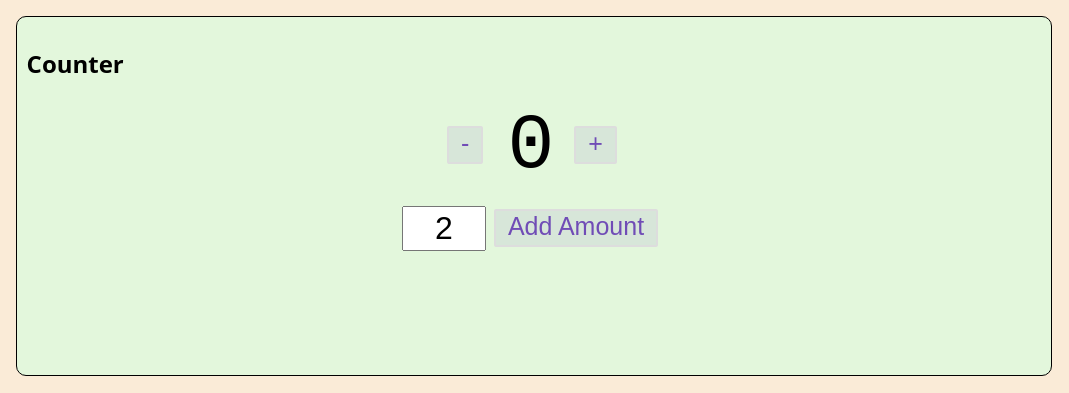
Test case: react redux testing › validate react app with redux
This screenshot has width=1069, height=393.
# INCREMENT VALUE BY 1
Click the button with test id "#plus" at (596, 145), box [574,126,617,164]
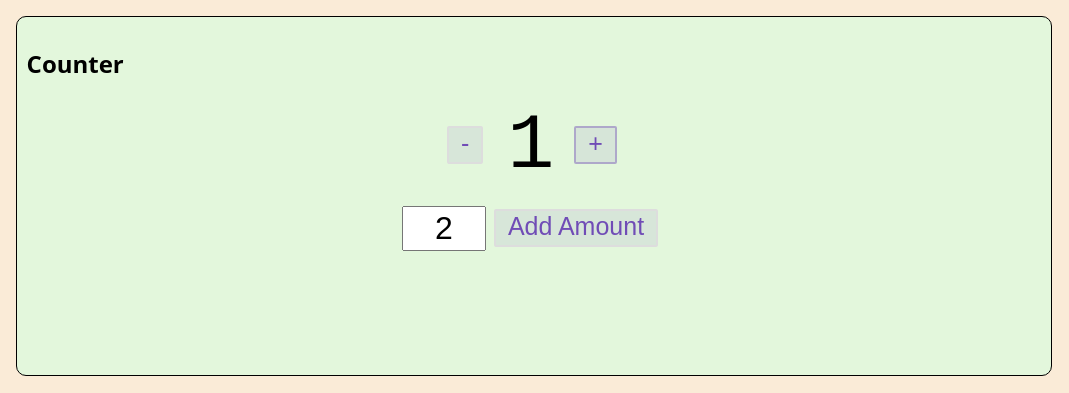
Expected: the text "1" is shown, [507,102,554,190]
# DECREMENT VALUE BY 1
Click the button with test id "#minus" at (465, 145), box [447,126,483,164]
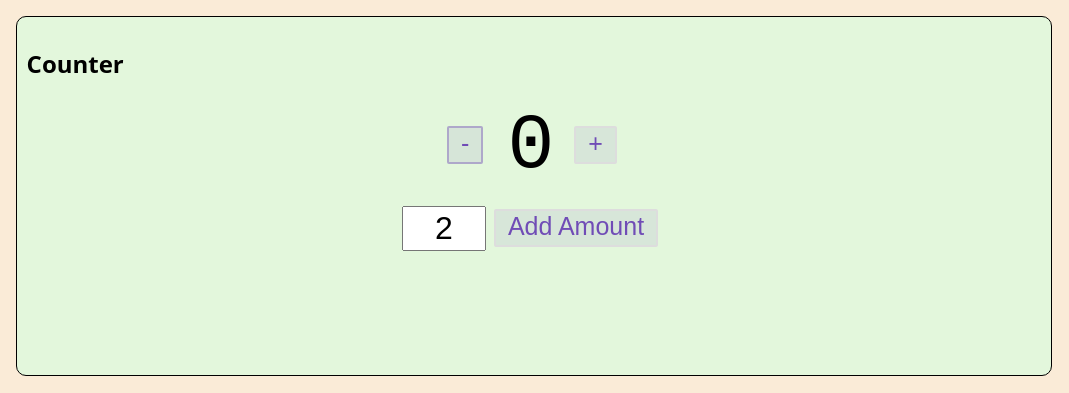
Expected: the text "0" is shown, [507,102,554,190]
# RESET AND TYPE VALUE 10 TO INPUT FIELD
Replace the text in the field with test id "incr-value" with "10" at (444, 229), box [402,206,486,251]
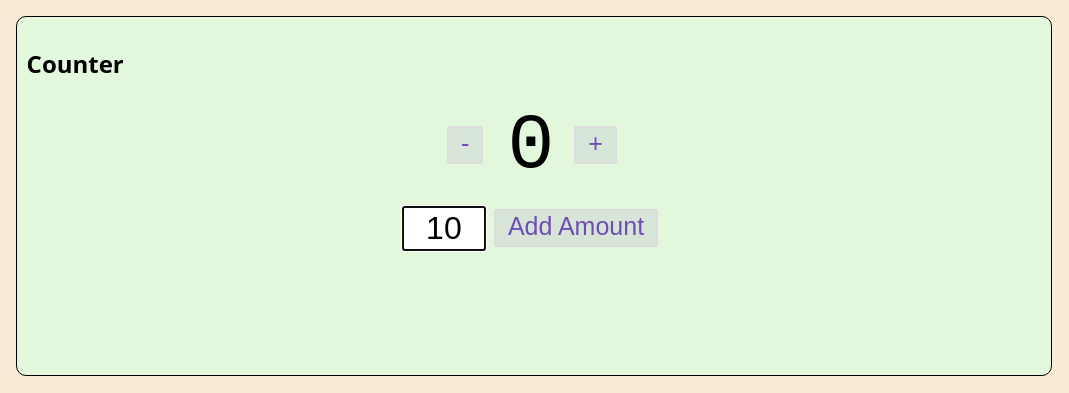
# INCREMENT VALUE TO 10
Click the button with test id "#incr-amt" at (576, 228), box [494,209,658,247]
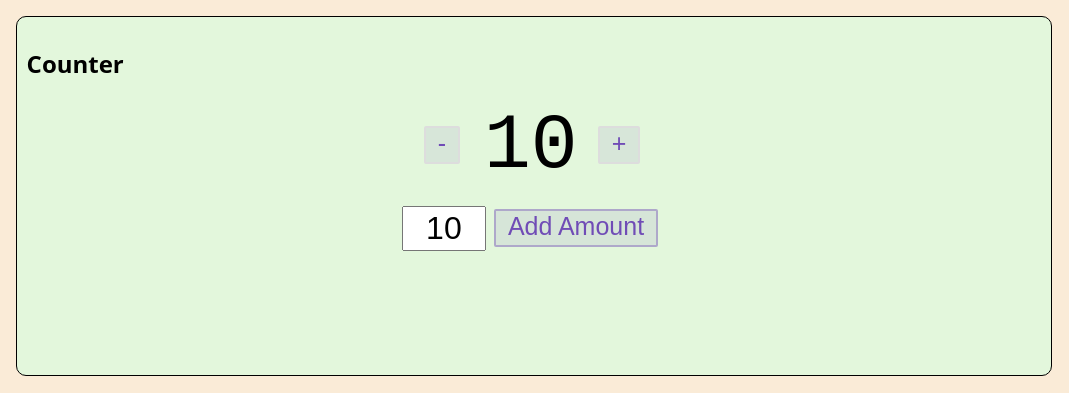
Expected: the text "10" is shown, [484,102,578,190]
